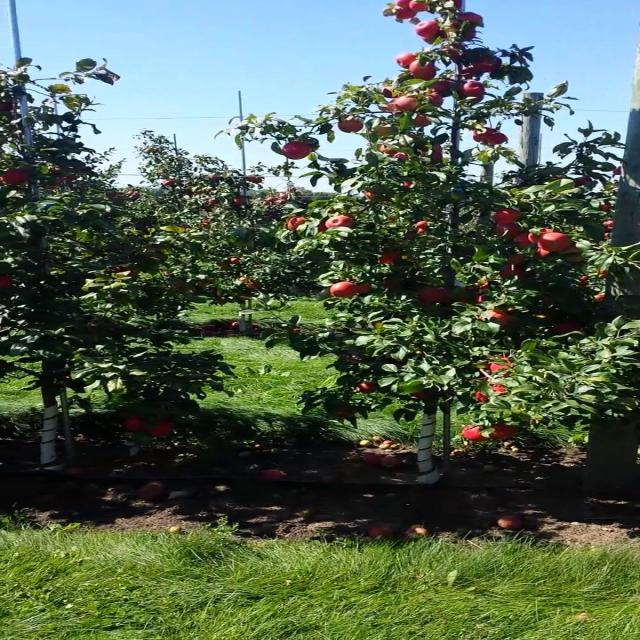apple: (540, 236, 576, 252), (148, 420, 178, 438), (412, 60, 439, 79), (476, 388, 508, 404), (461, 428, 491, 444), (284, 144, 313, 160), (490, 424, 519, 440), (476, 56, 505, 72), (419, 288, 446, 304), (490, 356, 514, 374), (483, 312, 514, 325), (561, 248, 585, 264), (447, 28, 476, 41), (483, 388, 508, 403), (333, 284, 356, 300), (397, 96, 420, 112), (440, 44, 464, 59), (419, 20, 441, 36), (497, 224, 524, 237), (127, 416, 148, 432), (433, 80, 455, 95), (497, 212, 524, 224), (554, 324, 581, 336), (461, 84, 485, 97), (426, 92, 446, 107), (476, 128, 496, 143), (340, 120, 363, 133), (6, 172, 28, 185), (333, 216, 356, 228), (397, 56, 420, 68), (397, 8, 420, 20), (412, 116, 434, 128), (490, 132, 510, 145), (383, 252, 404, 264), (518, 236, 537, 249), (461, 68, 480, 80), (454, 32, 476, 42), (113, 268, 140, 276), (355, 284, 375, 294), (504, 268, 524, 278), (390, 100, 404, 114), (383, 104, 402, 114), (383, 280, 400, 291), (461, 16, 482, 24), (291, 220, 306, 231), (383, 88, 398, 99), (447, 20, 462, 31), (604, 220, 619, 231), (412, 392, 430, 401), (383, 144, 396, 156), (362, 384, 377, 394), (575, 176, 590, 186), (412, 4, 430, 12), (376, 128, 393, 136), (447, 0, 464, 8), (540, 228, 556, 236), (540, 248, 551, 259), (319, 220, 329, 232), (513, 256, 526, 265), (340, 412, 356, 419), (397, 152, 411, 160), (476, 284, 491, 291), (6, 104, 18, 112), (369, 192, 380, 200), (433, 144, 443, 152), (397, 360, 407, 368), (433, 156, 444, 163), (476, 296, 485, 304), (618, 168, 626, 176), (419, 220, 427, 228), (596, 296, 606, 302), (397, 4, 411, 8), (419, 228, 427, 234), (419, 224, 427, 229)
